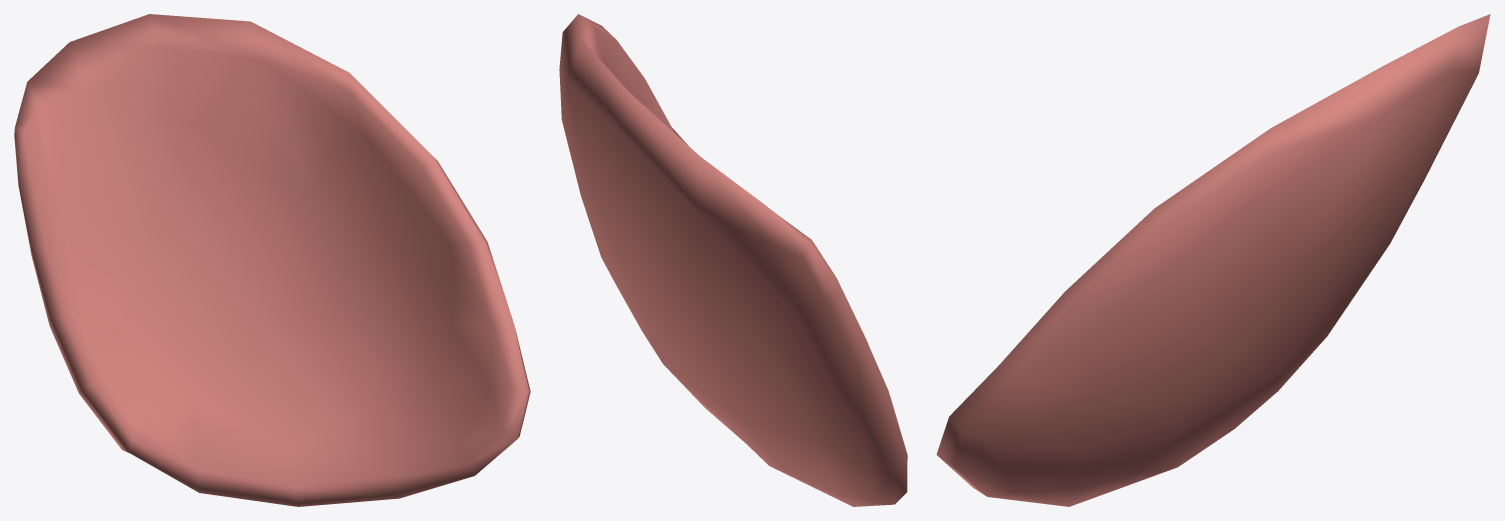
3 renders of one model, left to right at view 1: azimuth 30°, elevation 25°; view 2: azimuth 150°, elevation 25°; view 3: azimuth 270°, elevation 25°, orthographic. The views are drawn at different scales.
Parts seen in each view (by area): view 1: ZA_c152c946b7dcf34d; view 2: ZA_c152c946b7dcf34d; view 3: ZA_c152c946b7dcf34d.
Boxes of the visible parts, left/top/right/bottom form: ZA_c152c946b7dcf34d: left=14, top=14, right=530, bottom=506; ZA_c152c946b7dcf34d: left=559, top=14, right=907, bottom=506; ZA_c152c946b7dcf34d: left=936, top=14, right=1490, bottom=506.
Bounding box in the file's own units: 0.00491 × 0.00554 × 0.00619.
